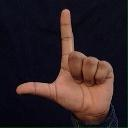L: (25, 5, 119, 122)
